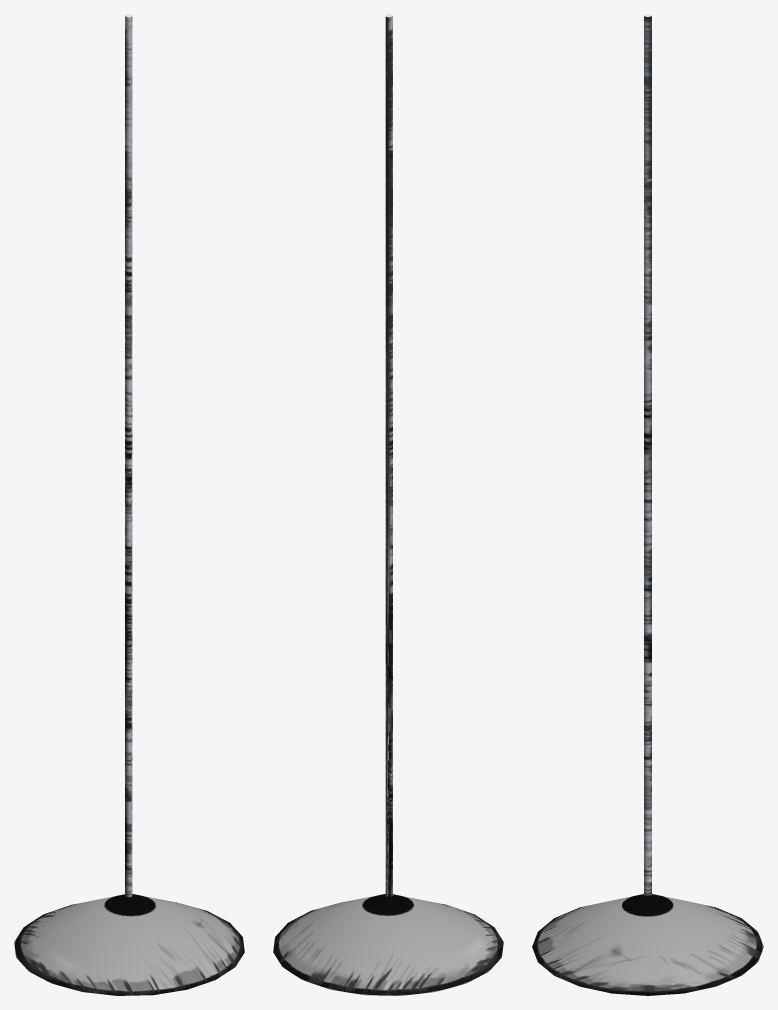
The model's file is Hanging_Light_Asset.fbx.
3 renders of one model, left to right at view 1: azimuth 30°, elevation 25°; view 2: azimuth 150°, elevation 25°; view 3: azimuth 270°, elevation 25°, orthographic.
Visible parts, largest first — view 1: Hanging_Light; view 2: Hanging_Light; view 3: Hanging_Light.
Part boxes in pixels (x1=…): Hanging_Light: x1=14, y1=14, x2=244, y2=995; Hanging_Light: x1=273, y1=14, x2=503, y2=995; Hanging_Light: x1=532, y1=14, x2=763, y2=995.
Size of the model in its own units: 0.051 by 0.2308 by 0.051.
1 material, 1 textured.
